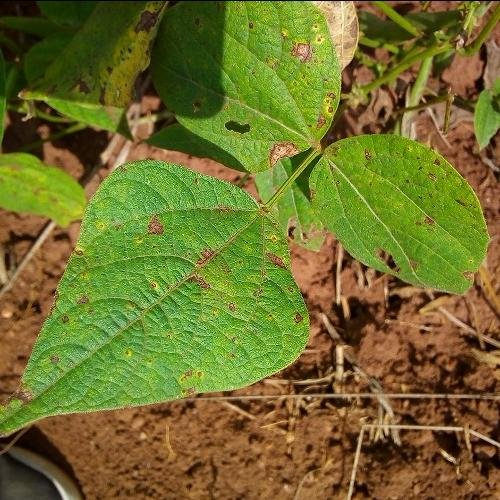hawar: (95, 183, 291, 381)
mozaik: (194, 88, 264, 139), (364, 232, 410, 276)
